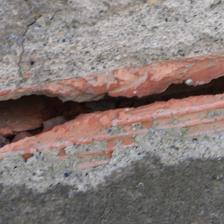Crack: (3, 64, 221, 154), (17, 14, 46, 79)
